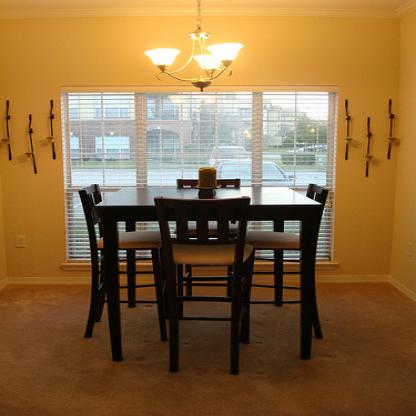car: (214, 159, 296, 187), (280, 142, 329, 163), (210, 146, 250, 170)
chair: (155, 197, 250, 375), (239, 183, 330, 344), (78, 184, 168, 341), (175, 178, 242, 320)
diningtable: (96, 187, 322, 361)
